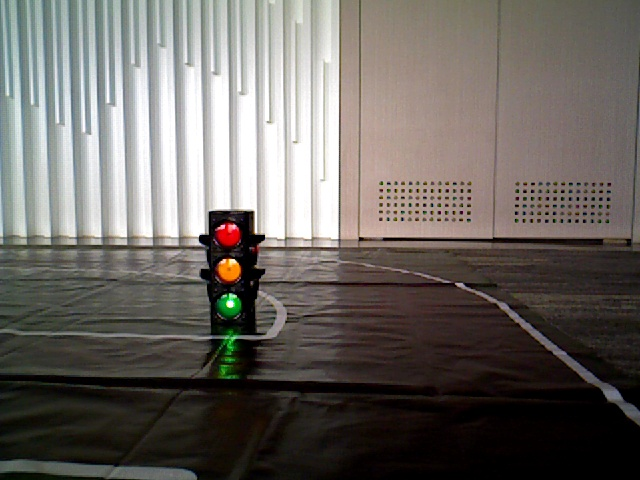green: (209, 212, 250, 321)
